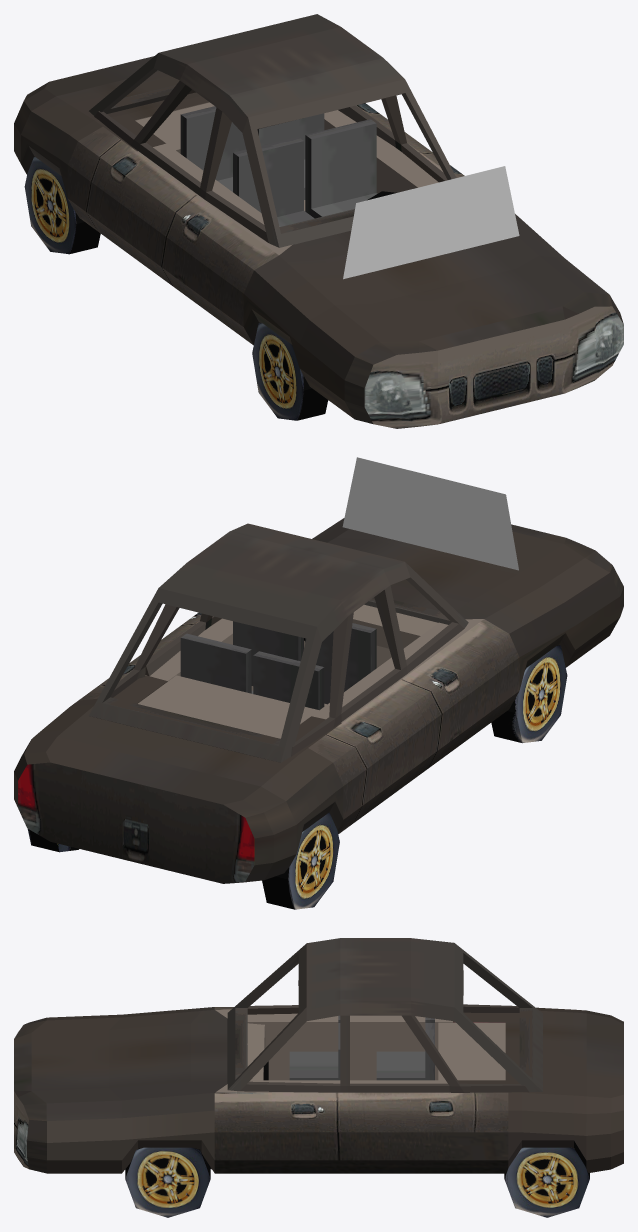
The model's file is Car.fbx.
The picture shows the model from 3 angles, top to bottom: view 1: azimuth 30°, elevation 25°; view 2: azimuth 150°, elevation 25°; view 3: azimuth 270°, elevation 25°; orthographic projection. The views are drawn at different scales.
Visible parts, largest first — view 1: Cube, Cube.001, Plane, Cube.007, Cube.003, Cube.004, Cube.006, Cube.009, Cube.008; view 2: Cube, Cube.001, Plane, Cube.003, Cube.004, Cube.008, Cube.009, Cube.006, Cube.007; view 3: Cube, Cube.001, Cube.002, Cube.005, Cube.009, Cube.006, Cube.008.
Boxes of the visible parts, bbox=[...] form: Cube: bbox=[14, 56, 623, 428]; Cube.001: bbox=[89, 14, 456, 247]; Plane: bbox=[343, 166, 519, 279]; Cube.007: bbox=[305, 119, 377, 218]; Cube.003: bbox=[252, 322, 328, 420]; Cube.004: bbox=[24, 156, 100, 254]; Cube.006: bbox=[233, 137, 314, 226]; Cube.009: bbox=[180, 106, 245, 191]; Cube.008: bbox=[257, 113, 324, 199]; Cube: bbox=[14, 518, 623, 883]; Cube.001: bbox=[88, 523, 468, 762]; Plane: bbox=[342, 457, 518, 570]; Cube.003: bbox=[491, 645, 567, 743]; Cube.004: bbox=[262, 812, 339, 909]; Cube.008: bbox=[180, 633, 253, 693]; Cube.009: bbox=[253, 651, 324, 710]; Cube.006: bbox=[305, 623, 376, 704]; Cube.007: bbox=[233, 621, 303, 685]; Cube: bbox=[14, 1007, 623, 1173]; Cube.001: bbox=[227, 938, 542, 1092]; Cube.002: bbox=[125, 1147, 210, 1217]; Cube.005: bbox=[504, 1147, 589, 1217]; Cube.009: bbox=[376, 1017, 434, 1080]; Cube.006: bbox=[289, 1015, 340, 1080]; Cube.008: bbox=[425, 1023, 434, 1080].
Size of the model in its own units: 621 by 503 by 1426.
